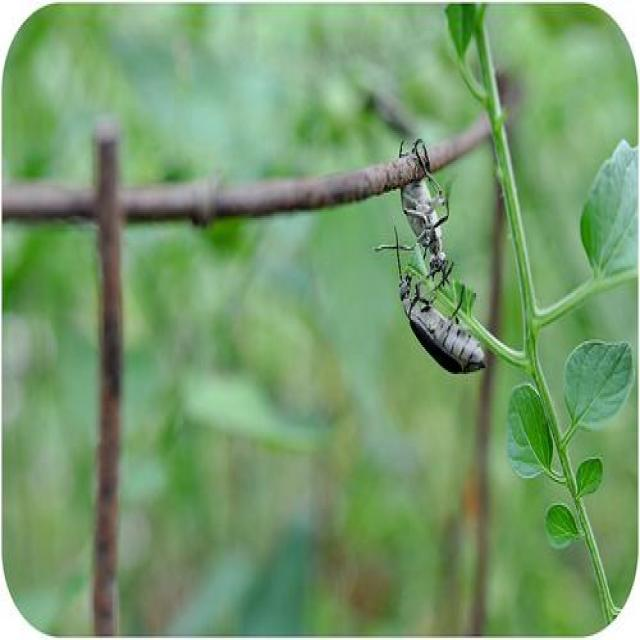BlisterBeetle-Adult-: (388, 254, 495, 386)
